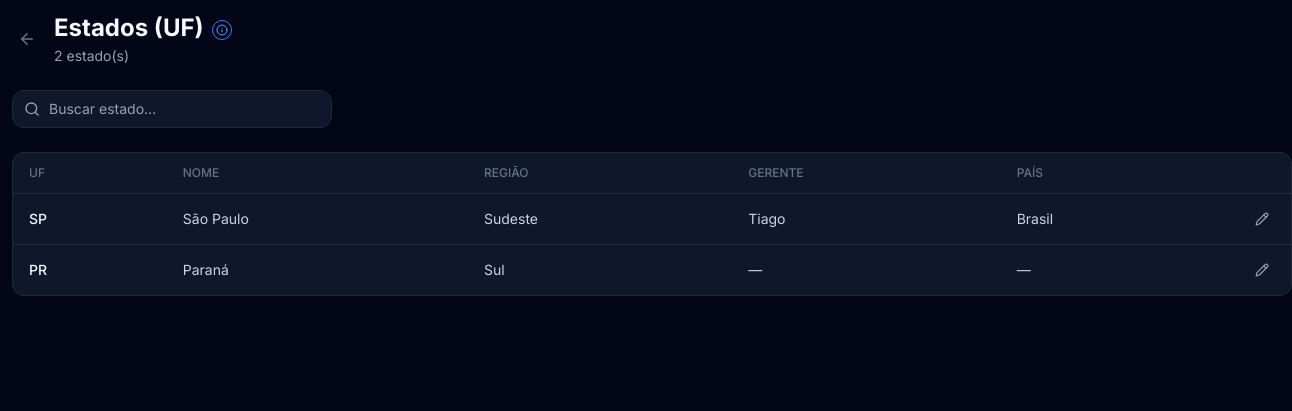
Test: EstadosConfigPage busca e edição inline › filtra estados pela busca
expect the text "São Paulo" is shown: met, box top-left (167, 194), bottom-right (468, 244)
Step 1. Type "Paraná" into the field with placeholder "Buscar estado..." → (172, 109), box top-left (12, 90), bottom-right (332, 128)
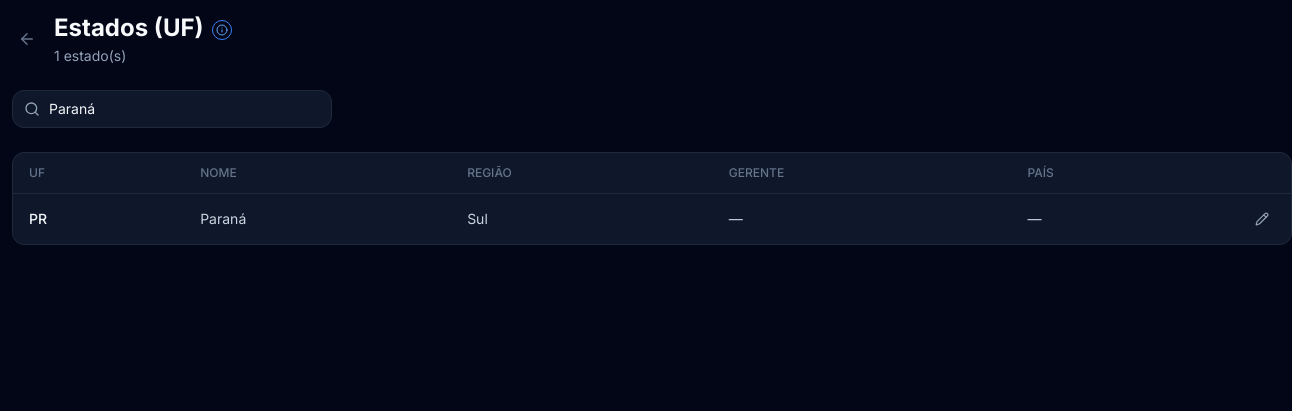
expect the text "Paraná" is shown: met, box top-left (184, 194), bottom-right (451, 244)
expect the text "São Paulo" is gone: met
Step 2. Replace the text in the field with placeholder "Buscar estado..." with "zzz" → (172, 109), box top-left (12, 90), bottom-right (332, 128)
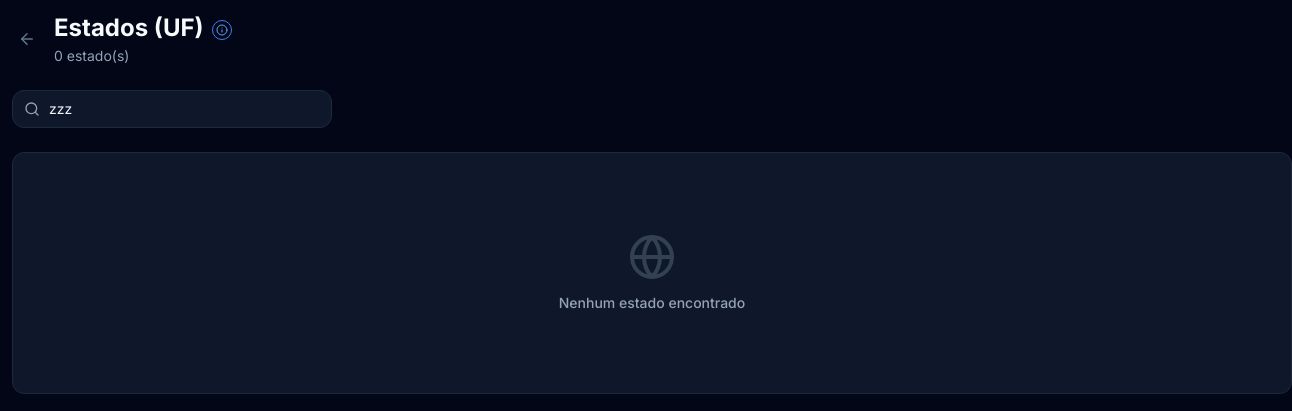
expect the text "Nenhum estado encontrado" is shown: met, box top-left (559, 293), bottom-right (745, 313)
